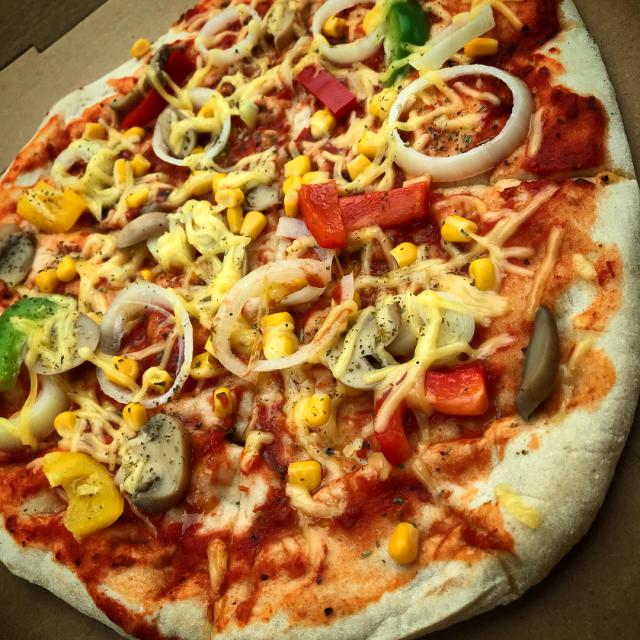mushrooms: (122, 411, 194, 508), (514, 302, 559, 424), (0, 231, 40, 295), (264, 0, 312, 49)
pizza: (0, 0, 640, 640)
